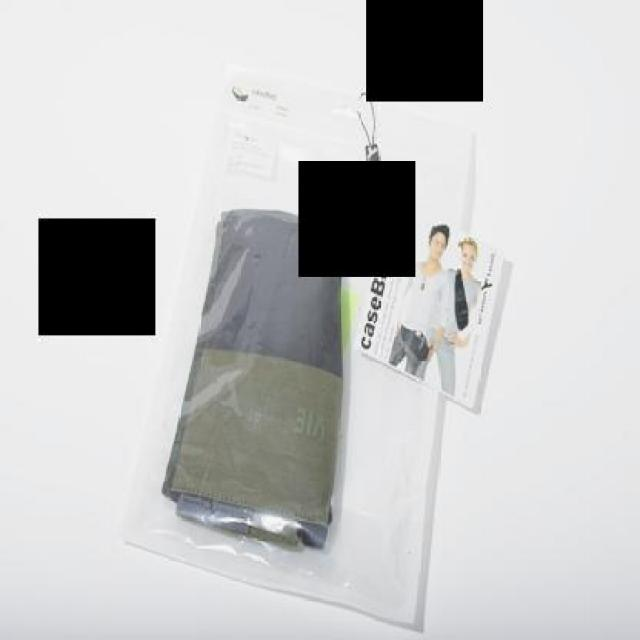plastic bag: (163, 206, 349, 552)
